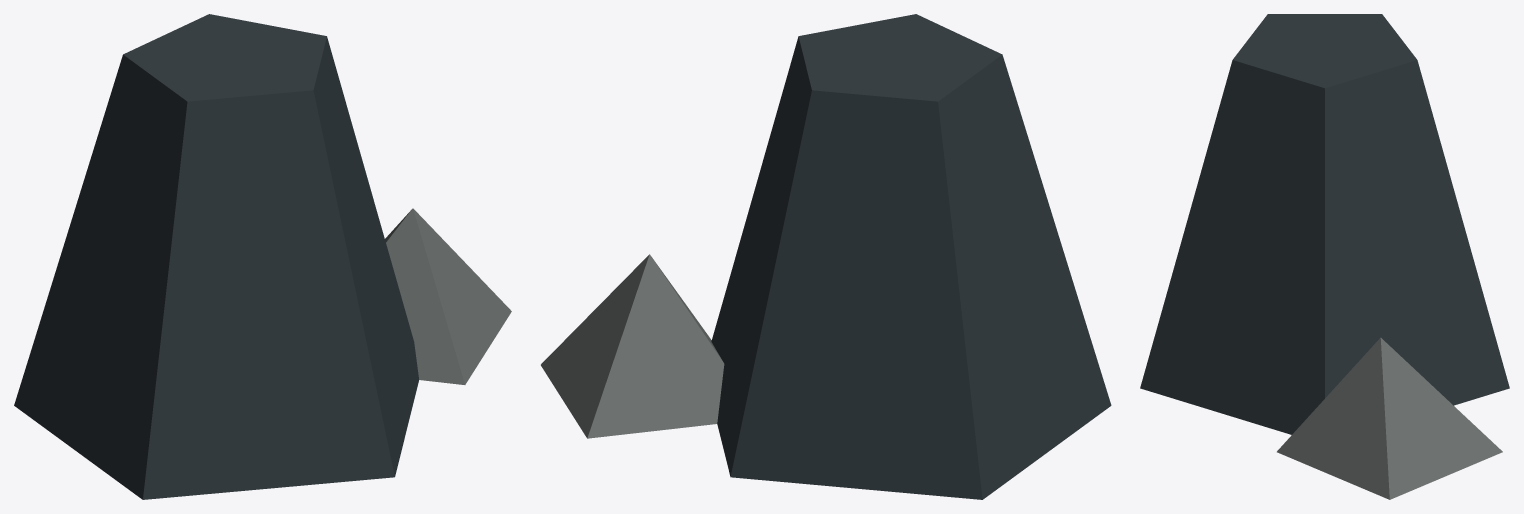
The model's file is Basalt.fbx.
3 renders of one model, left to right at view 1: azimuth 30°, elevation 25°; view 2: azimuth 150°, elevation 25°; view 3: azimuth 270°, elevation 25°, orthographic. The views are drawn at different scales.
Parts seen in each view (by area): view 1: Basalt; view 2: Basalt; view 3: Basalt.
Boxes of the visible parts, left/top/right/bottom form: Basalt: left=14, top=14, right=511, bottom=499; Basalt: left=541, top=14, right=1111, bottom=499; Basalt: left=1140, top=14, right=1509, bottom=499.
Bounding box in the file's own units: 59.42 × 43 × 45.65.
